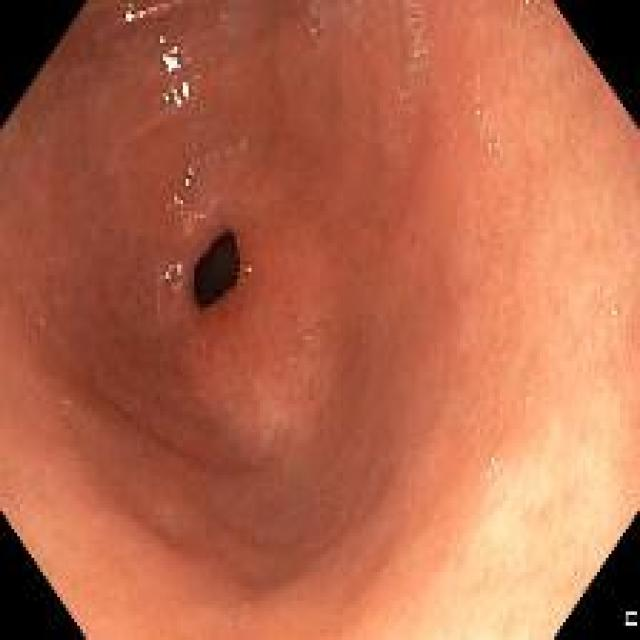bubbles: (521, 0, 545, 21), (402, 12, 420, 39), (307, 15, 325, 38), (137, 6, 160, 23), (485, 138, 503, 158), (163, 262, 182, 279), (405, 61, 427, 75), (238, 260, 252, 276), (170, 193, 185, 206), (409, 47, 427, 57), (475, 108, 486, 123), (399, 89, 411, 101), (173, 282, 180, 298), (611, 304, 618, 319)
contrast: (191, 228, 239, 310)
saturation: (492, 392, 619, 617), (433, 546, 558, 638)
specularity: (161, 53, 179, 72), (180, 78, 191, 98), (171, 88, 180, 108), (123, 7, 133, 25), (162, 91, 169, 104), (158, 36, 168, 45), (137, 11, 144, 21), (184, 177, 191, 186), (165, 272, 171, 280)
